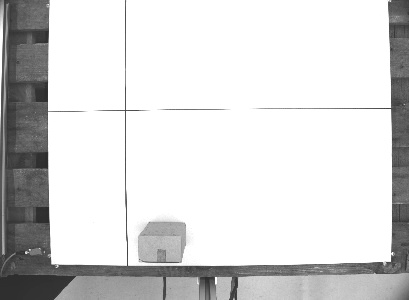b6: (135, 218, 186, 265)
